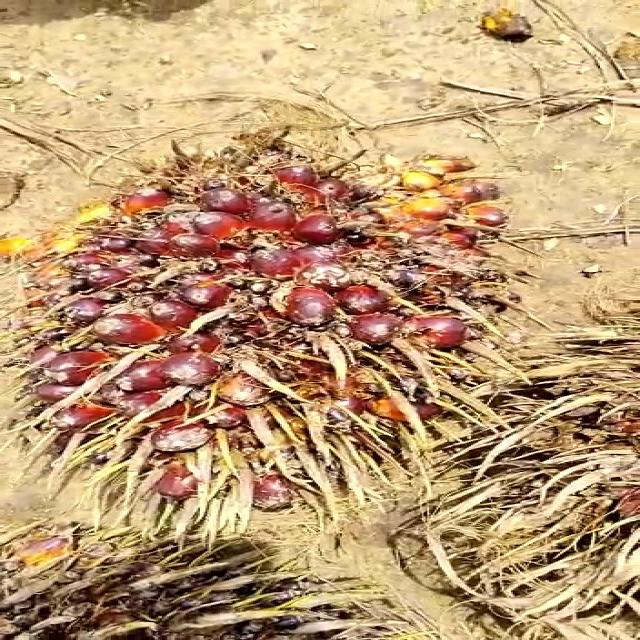palm oil: (27, 126, 553, 530)
